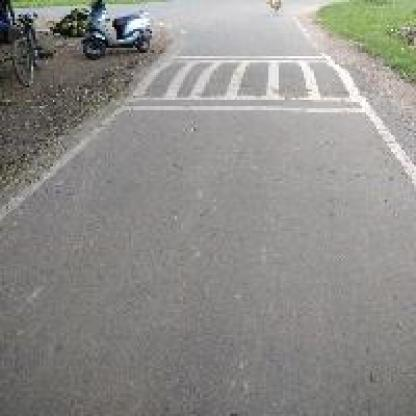Speed Bump: (108, 52, 374, 114)
